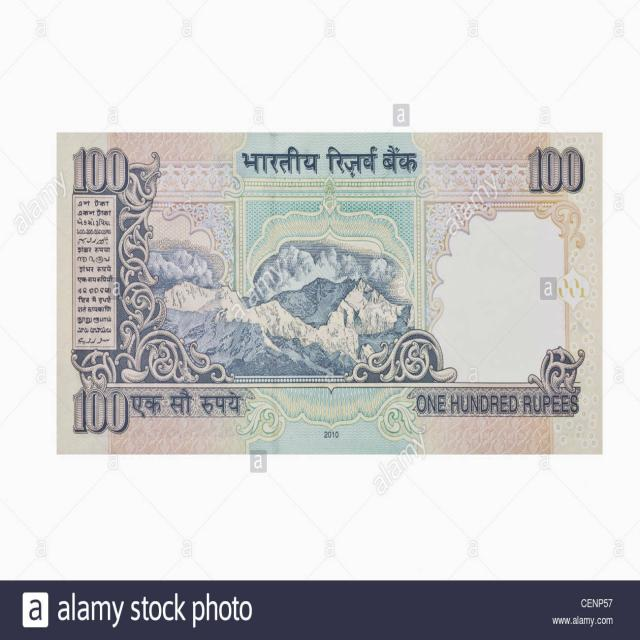100IndianRupees: (59, 138, 600, 451)
